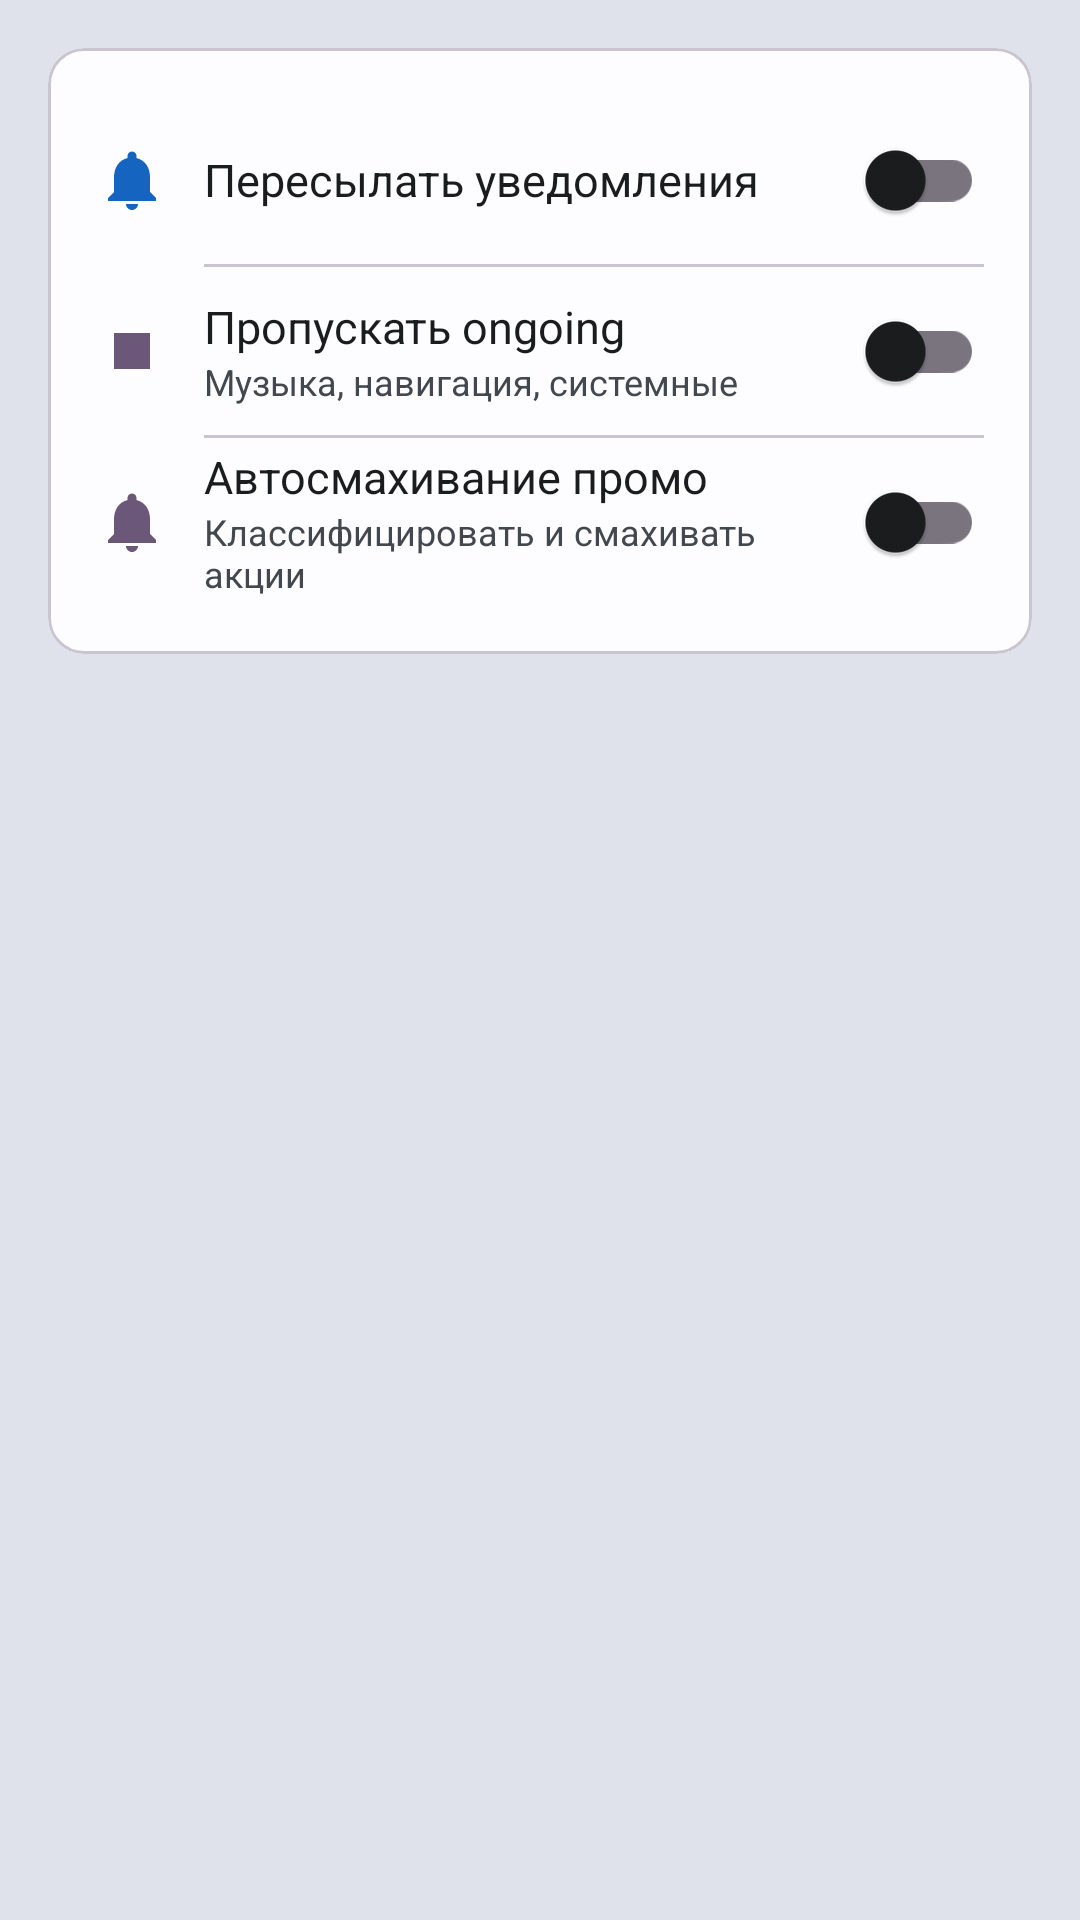

Screen size 1080 x 1920. Icon name, then its center in pixels as (x=x, y=y):
notification: (x=132, y=180), (x=132, y=522)
